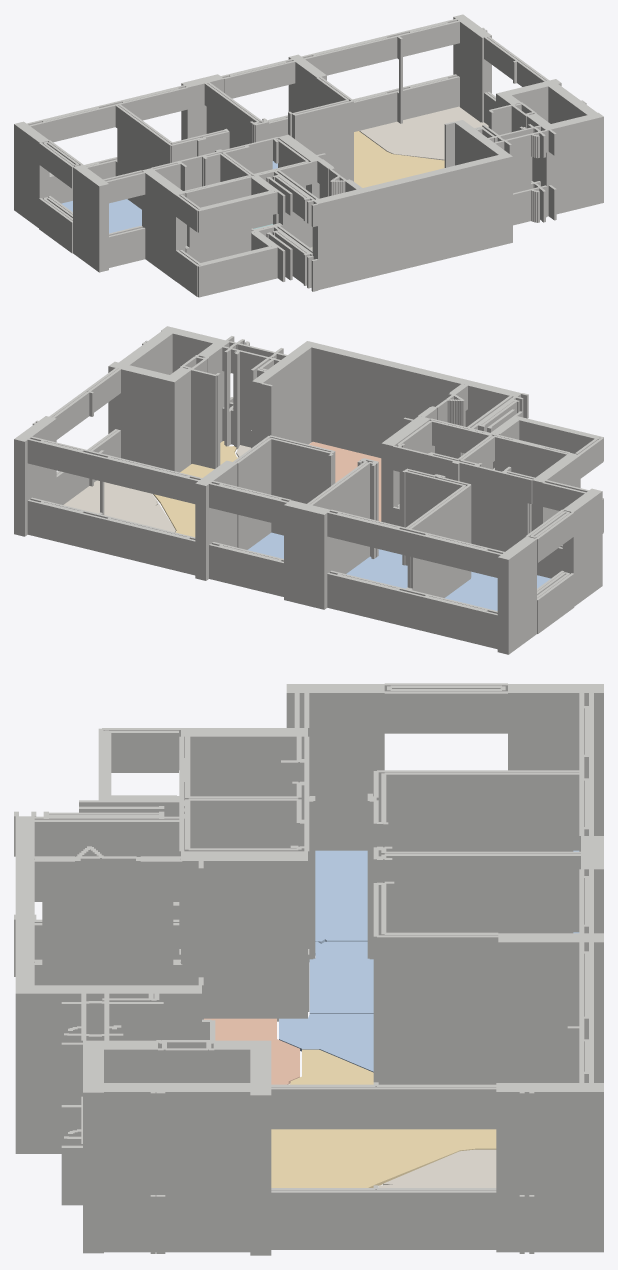
The picture shows the model from 3 angles, top to bottom: view 1: azimuth 30°, elevation 25°; view 2: azimuth 150°, elevation 25°; view 3: azimuth 270°, elevation 25°; orthographic projection. The views are drawn at different scales.
Visible parts, largest first — view 1: walls, room:other:1, room:living:2, room:bedroom:9; view 2: walls, room:other:1, room:living:2, room:bedroom:7, room:bedroom:9, room:kitchen:8, room:bedroom:0; view 3: walls, room:living:2, room:bedroom:9, room:bedroom:7, room:bedroom:0, room:other:1, room:kitchen:8.
Part boxes in pixels (left/top/right/bottom): walls: left=14, top=14, right=603, bottom=297; room:other:1: left=359, top=106, right=488, bottom=160; room:living:2: left=354, top=131, right=444, bottom=187; room:bedroom:9: left=61, top=199, right=141, bottom=233; walls: left=14, top=326, right=603, bottom=654; room:other:1: left=63, top=480, right=175, bottom=532; room:living:2: left=153, top=441, right=237, bottom=537; room:bedroom:7: left=346, top=549, right=407, bottom=588; room:bedroom:9: left=445, top=571, right=550, bottom=610; room:kitchen:8: left=309, top=441, right=381, bottom=521; room:bedroom:0: left=248, top=532, right=283, bottom=558; walls: left=14, top=683, right=603, bottom=1255; room:living:2: left=271, top=1049, right=496, bottom=1187; room:bedroom:9: left=315, top=850, right=579, bottom=943; room:bedroom:7: left=309, top=932, right=579, bottom=1013; room:bedroom:0: left=279, top=1014, right=373, bottom=1072; room:other:1: left=379, top=1149, right=496, bottom=1187; room:kitchen:8: left=204, top=1018, right=299, bottom=1084.
Bounding box in the file's own units: 15.41 × 2.8 × 9.33.
